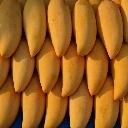mango: (71, 1, 97, 57), (22, 0, 47, 58), (46, 0, 70, 57), (44, 74, 69, 128)
